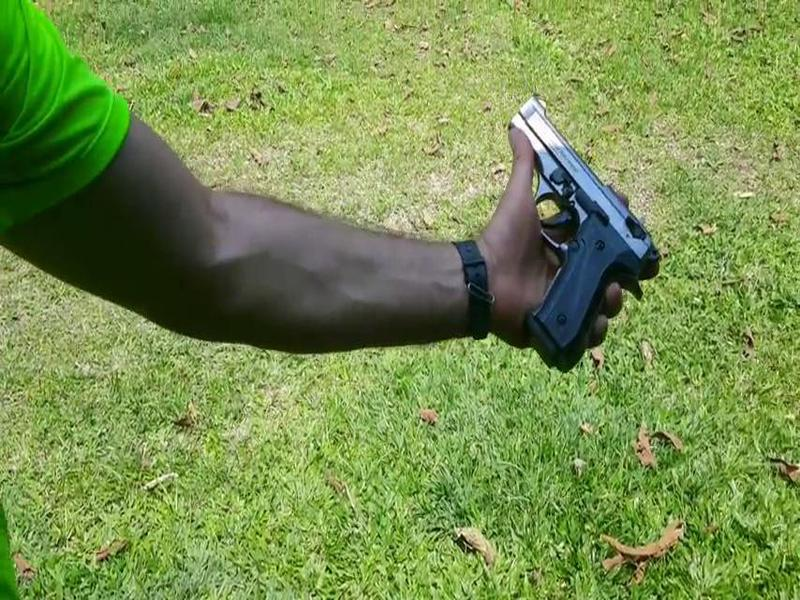Pistola: (485, 84, 657, 363)
